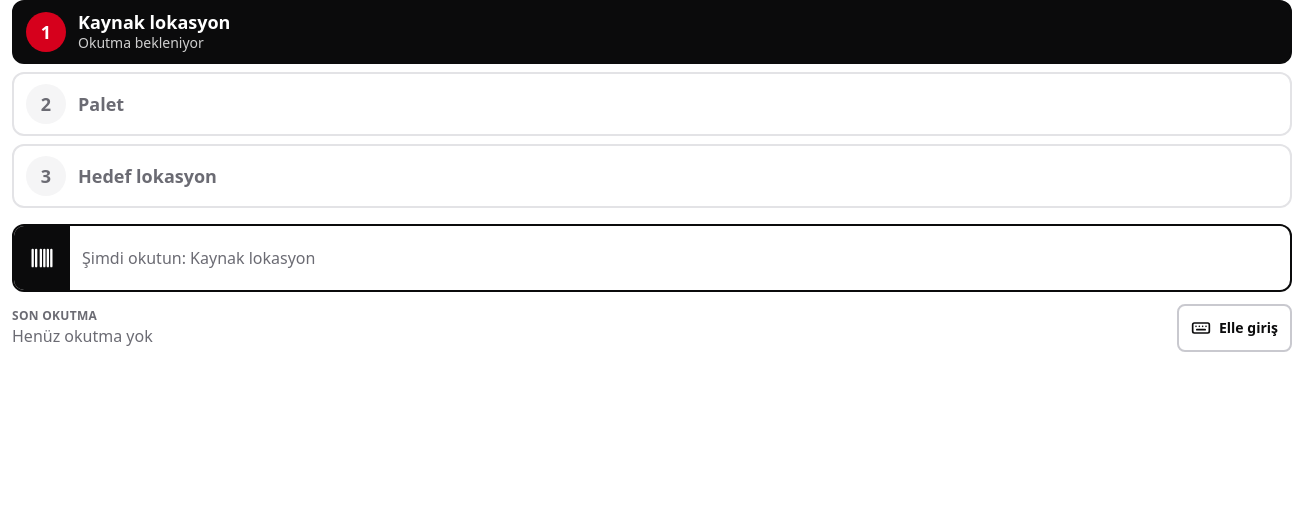
<ScanFlow> › refuses a scan of the wrong class with the refused tone and a red banner, and logs it
In the field with test id "scan-input": (680, 258) [70,226,1290,290], type "086912340000010011"
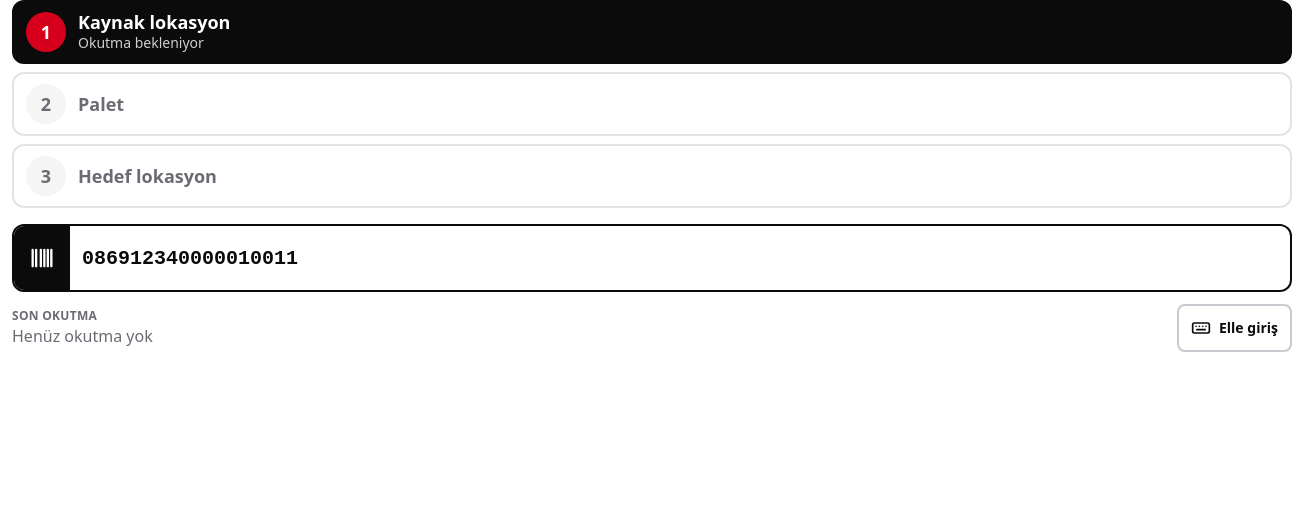
Press Enter in the field with test id "scan-input", box [70,226,1290,290]
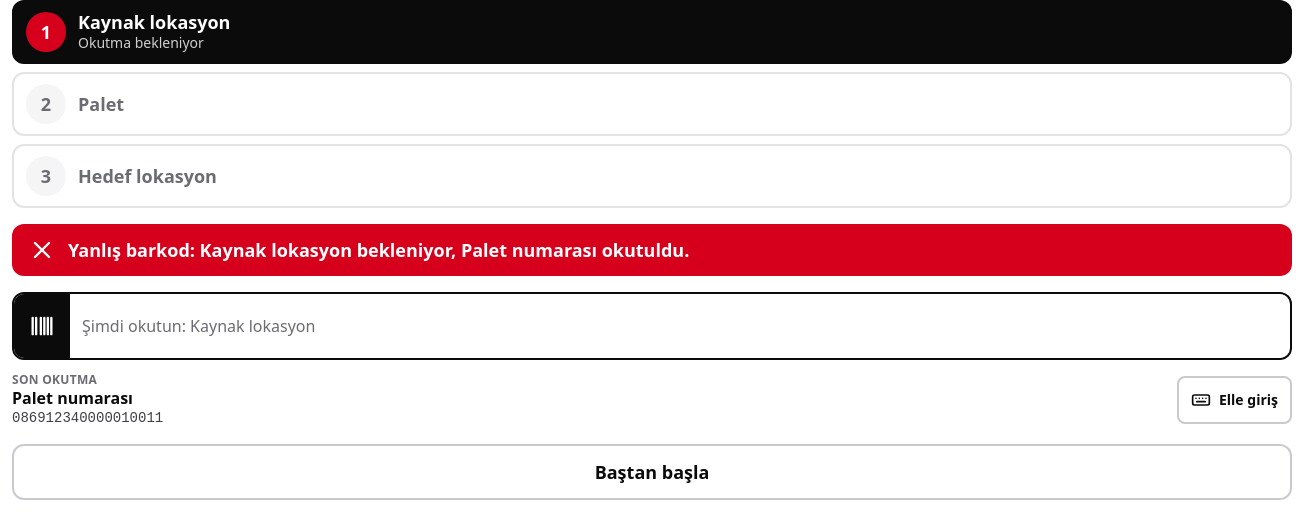
Now the message with test id "refusal-banner" shows "Kaynak lokasyon", box [68,238,689,262]
Now the message with test id "refusal-banner" shows "Palet numarası", box [68,238,689,262]
In the field with test id "scan-input": (680, 326) [70,294,1290,358], type "TZ-B03-L12"
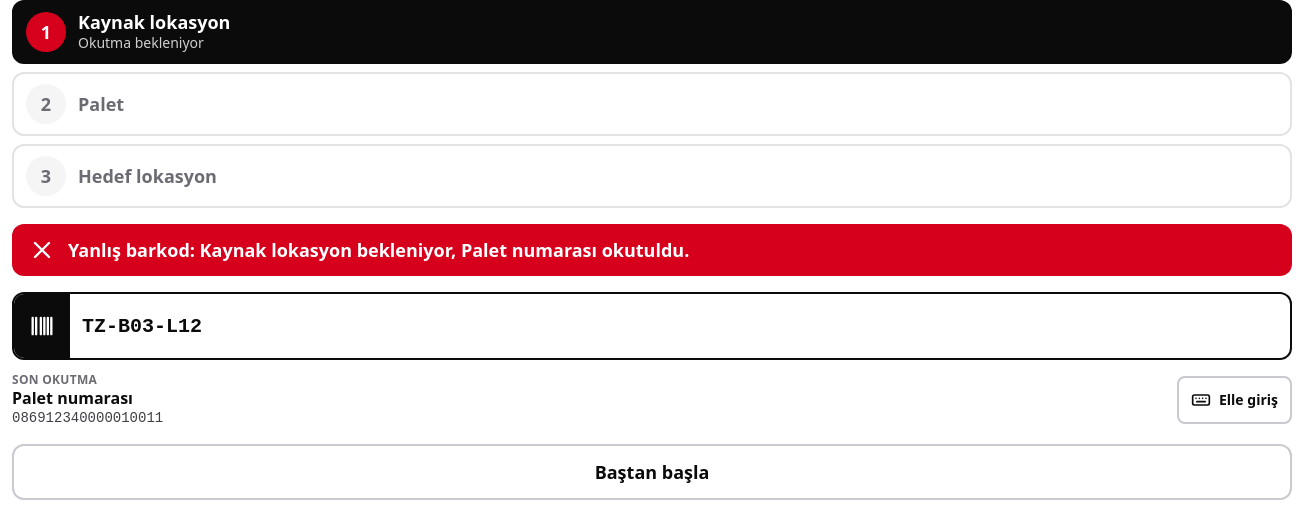
Press Enter in the field with test id "scan-input", box [70,294,1290,358]
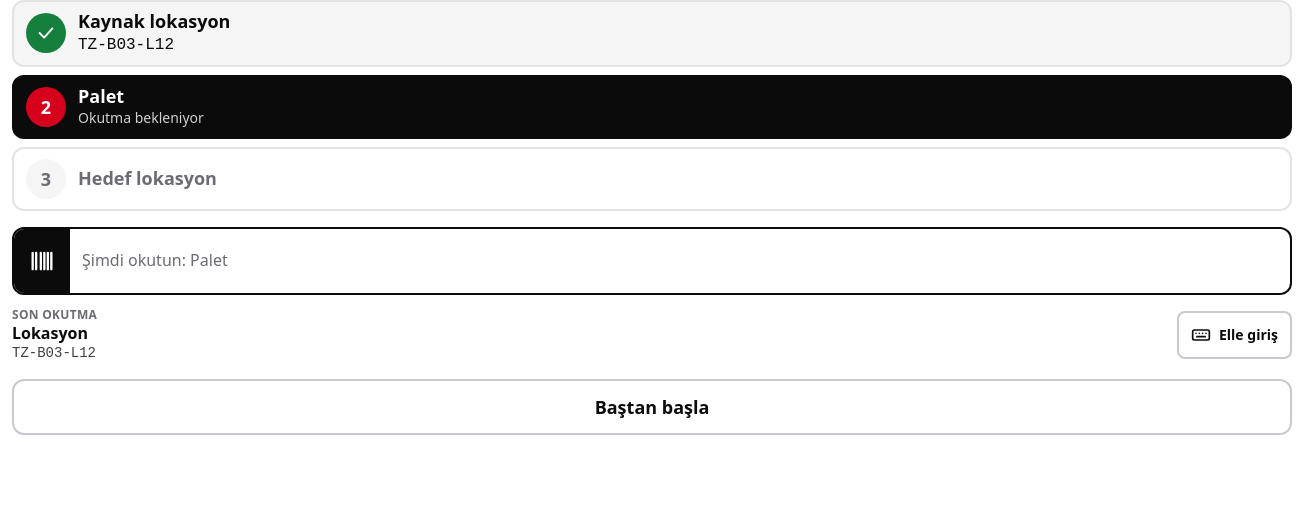
Now the message with test id "refusal-banner" is gone
